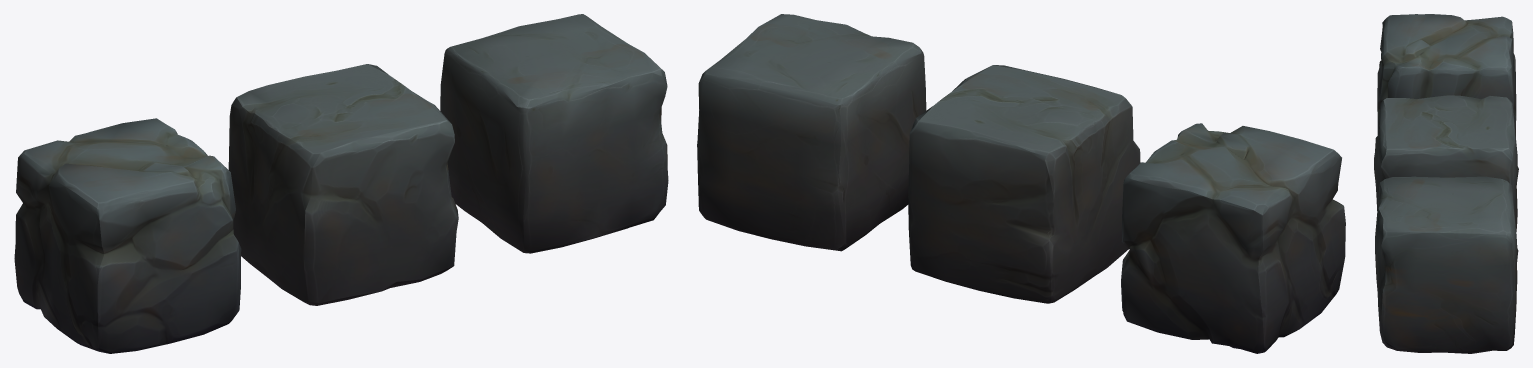
The picture shows the model from 3 angles, left to right: view 1: azimuth 30°, elevation 25°; view 2: azimuth 150°, elevation 25°; view 3: azimuth 270°, elevation 25°; orthographic projection. The views are drawn at different scales.
Visible parts, largest first — view 1: cube_rock_A_LOD0, cube_rock_B_LOD0, cube_rock_C_LOD0; view 2: cube_rock_A_LOD0, cube_rock_C_LOD0, cube_rock_B_LOD0; view 3: cube_rock_C_LOD0, cube_rock_A_LOD0, cube_rock_B_LOD0.
Part boxes in pixels (bbox=[...]): cube_rock_A_LOD0: bbox=[228, 64, 458, 305]; cube_rock_B_LOD0: bbox=[14, 118, 241, 353]; cube_rock_C_LOD0: bbox=[440, 14, 668, 253]; cube_rock_A_LOD0: bbox=[908, 65, 1140, 303]; cube_rock_C_LOD0: bbox=[697, 14, 926, 251]; cube_rock_B_LOD0: bbox=[1121, 123, 1345, 353]; cube_rock_C_LOD0: bbox=[1375, 176, 1518, 353]; cube_rock_A_LOD0: bbox=[1374, 95, 1518, 231]; cube_rock_B_LOD0: bbox=[1377, 14, 1516, 136].
Size of what is drawn, in the model's own units: 3.73 by 1.01 by 1.03.
3 materials, 3 textured.
